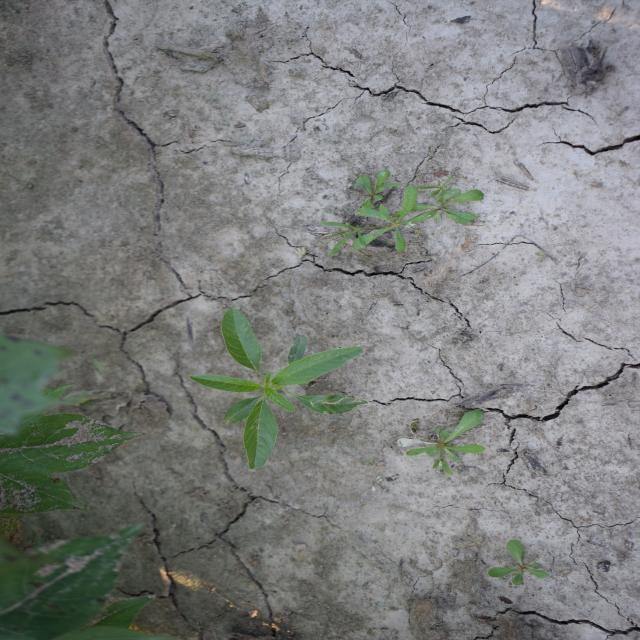Carpetweed: (316, 169, 487, 257), (395, 408, 489, 478), (487, 537, 552, 587)
Waterhemp: (188, 309, 371, 472)
